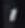Squash-Ball: (0, 1, 25, 28)
